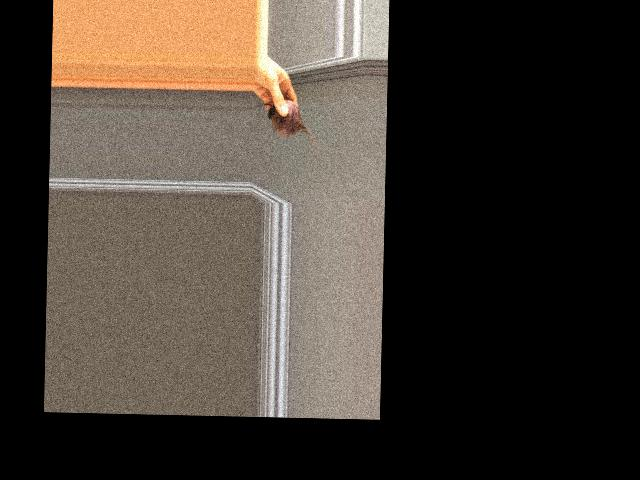beet: (251, 99, 318, 156)
